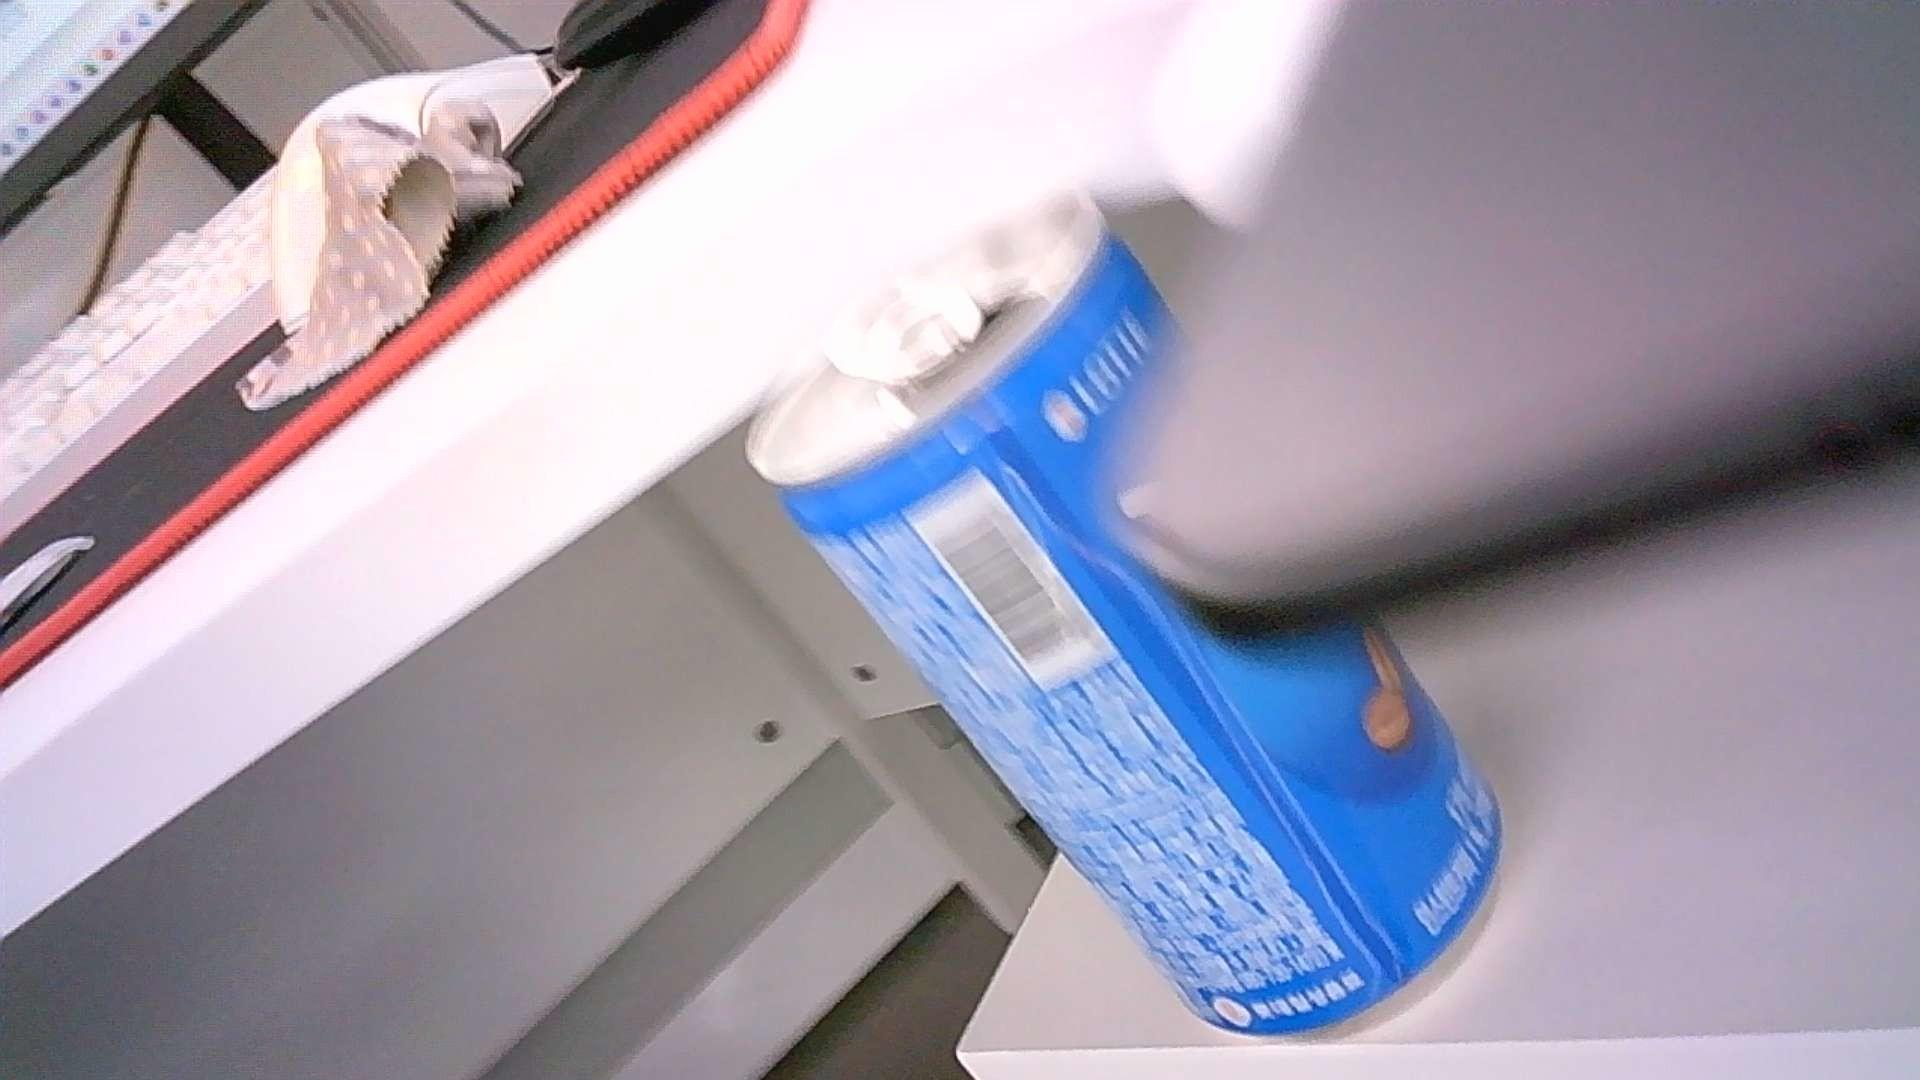letsbe: (744, 179, 1505, 1039)
